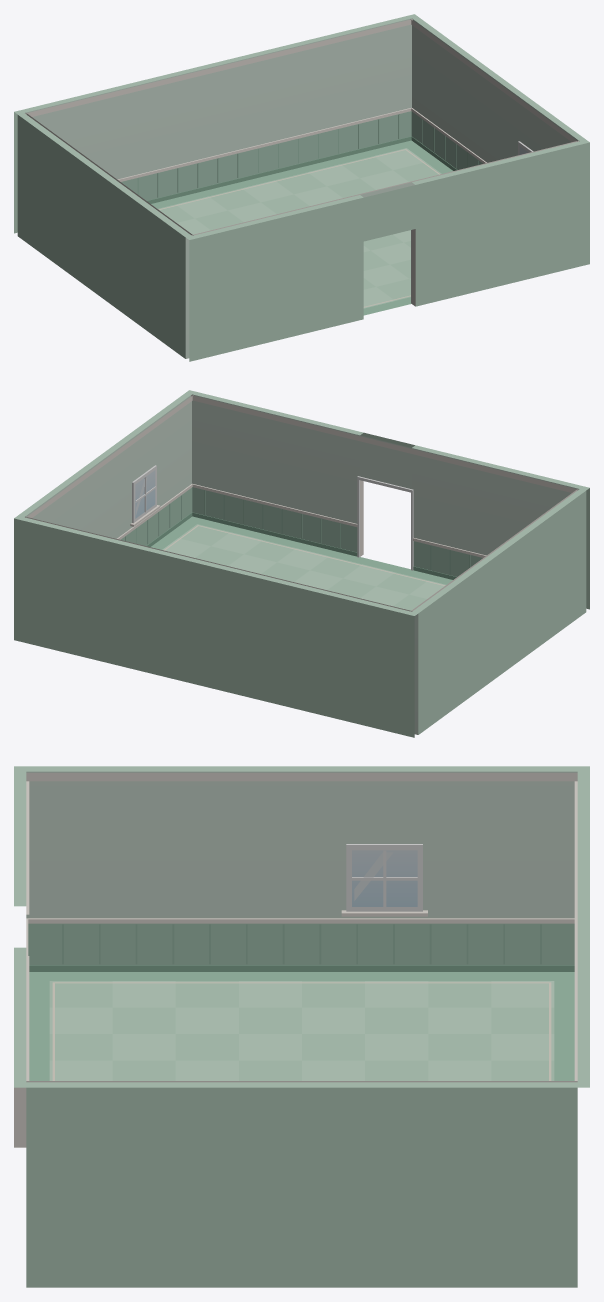
Rendered from pi_interior_shell.glb.
3 renders of one model, top to bottom at view 1: azimuth 30°, elevation 25°; view 2: azimuth 150°, elevation 25°; view 3: azimuth 270°, elevation 25°, orthographic. The views are drawn at different scales.
Visible parts, largest first — view 1: dinding_selatan, dinding_utara, dinding_barat, lantai, dinding_timur; view 2: dinding_utara, dinding_selatan, dinding_barat, dinding_timur, lantai; view 3: dinding_timur, dinding_barat, lantai, dinding_selatan, dinding_utara.
Part boxes in pixels (x1,y1,x2,y2): dinding_selatan: (185,140,589,361); dinding_utara: (14,14,417,233); dinding_barat: (17,113,193,358); lantai: (151,140,453,315); dinding_timur: (410,17,585,170); dinding_utara: (14,516,418,737); dinding_selatan: (186,390,589,609); dinding_barat: (410,489,586,734); dinding_timur: (18,393,193,546); lantai: (150,516,452,610); dinding_timur: (26,1081,577,1287); dinding_barat: (26,766,577,971); lantai: (29,972,574,1080); dinding_selatan: (14,766,29,1147); dinding_utara: (574,766,589,1087).
Bounding box in the file's own units: 12.4 × 3.6 × 9.4.
